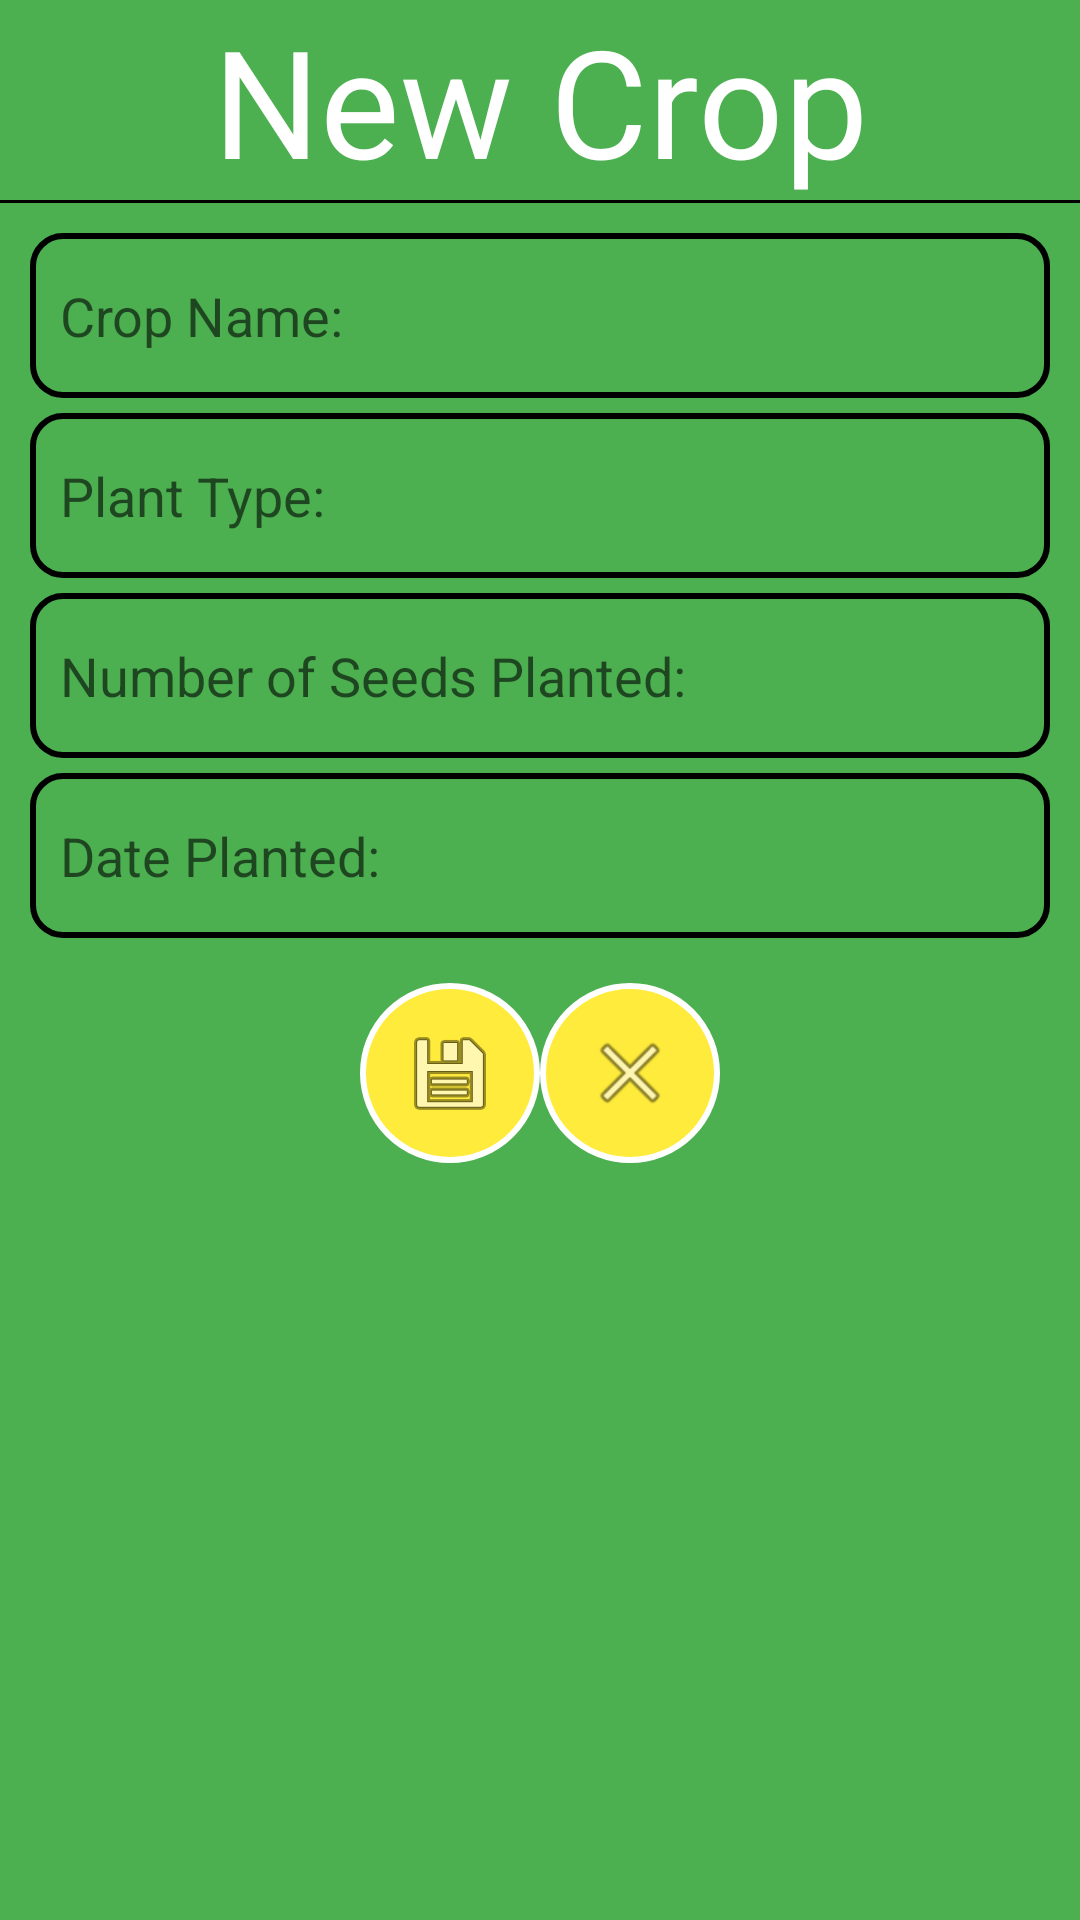

Screen size 1080px x 1920px. Icon name, then its center in pixels as (x=x, y=y):
close clear cancel: (x=630, y=1073)
save: (x=450, y=1073)
